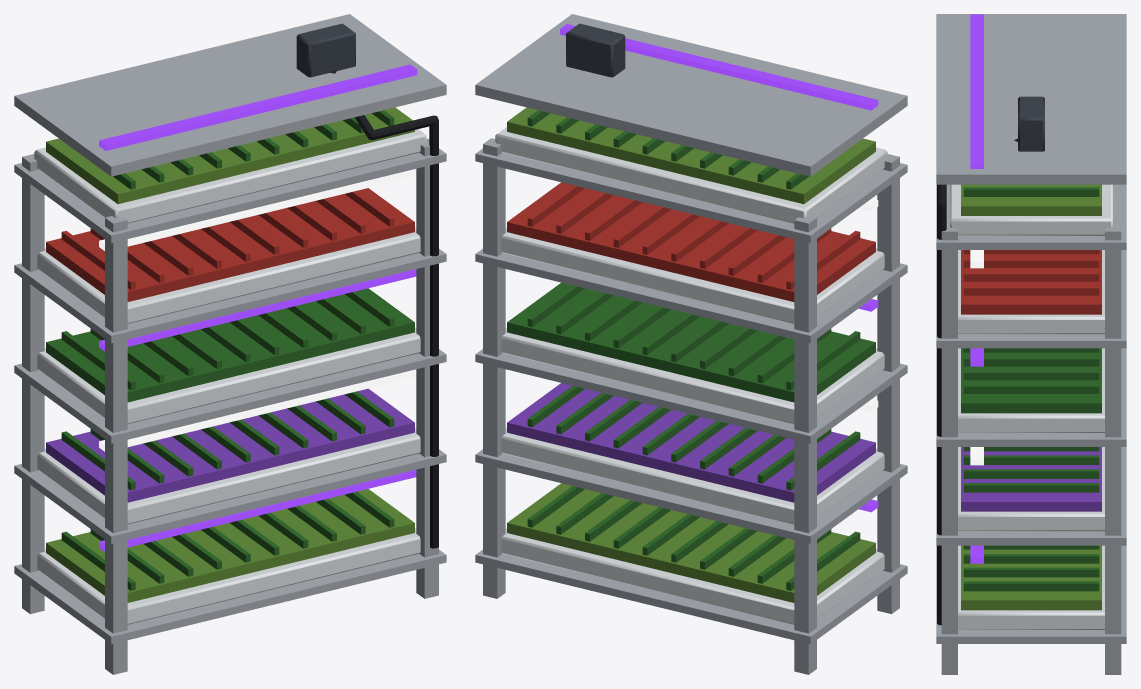
Rendered from planter_microgreen_rack.glb.
The picture shows the model from 3 angles, left to right: view 1: azimuth 30°, elevation 25°; view 2: azimuth 150°, elevation 25°; view 3: azimuth 270°, elevation 25°; orthographic projection.
Visible parts, largest first — view 1: planter_microgreen_rack; view 2: planter_microgreen_rack; view 3: planter_microgreen_rack.
Part boxes in pixels (x1,y1,x2,y2): planter_microgreen_rack: (14, 14, 446, 674); planter_microgreen_rack: (475, 14, 907, 674); planter_microgreen_rack: (936, 14, 1126, 674).
Bounding box in the file's own units: 1.4 × 2.17 × 0.7.
